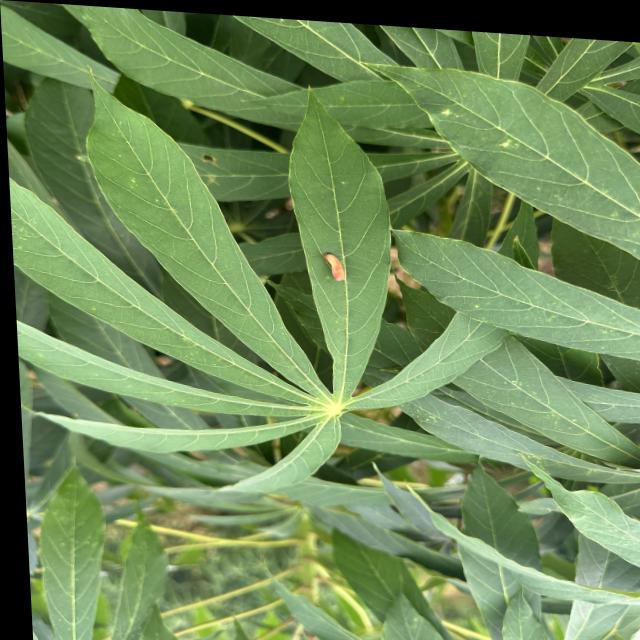Mosca: (315, 243, 356, 292)
